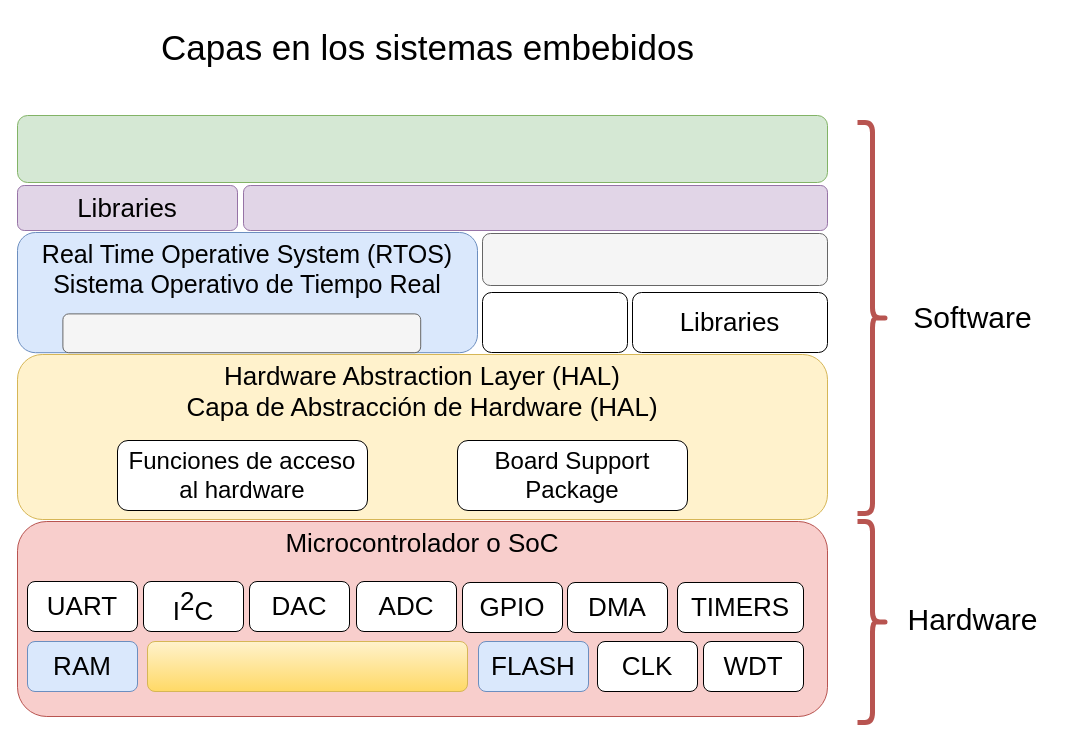
Image size: 1065x742. Some labels were removed from this diagram. Here are the shapes that lost their labels. From the top down, the centre of each, then its label:
At (x=422, y=148): "Aplicaciones de usuario".
At (x=535, y=207): "Hilos".
At (x=655, y=259): "Aplicaciones bare metal".
At (x=241, y=333): "Kernel".
At (x=555, y=322): "Drivers".
At (x=307, y=666): "CPU".
